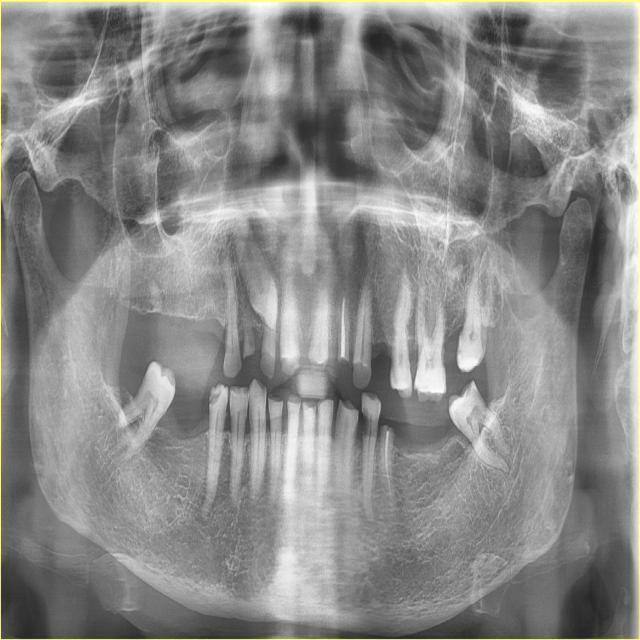Caries: (352, 360, 371, 389), (224, 350, 241, 377), (280, 355, 300, 375), (260, 352, 274, 378), (362, 406, 372, 438), (210, 389, 222, 406), (440, 342, 445, 372), (414, 387, 420, 399)
Missing teeth: (163, 311, 226, 378), (395, 401, 463, 451), (154, 389, 214, 439), (444, 326, 461, 388), (371, 351, 391, 385)
Periapical lesion: (195, 486, 221, 527), (453, 248, 474, 283), (360, 504, 379, 527), (502, 441, 514, 457), (500, 460, 511, 475)
Root Piece: (309, 291, 328, 369), (379, 424, 396, 507), (337, 289, 350, 365), (243, 304, 255, 361), (148, 278, 164, 313), (450, 264, 462, 284)
impacted tooth: (221, 191, 278, 328)
